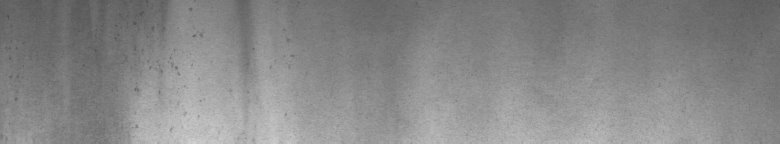ib: (108, 7, 290, 132)
